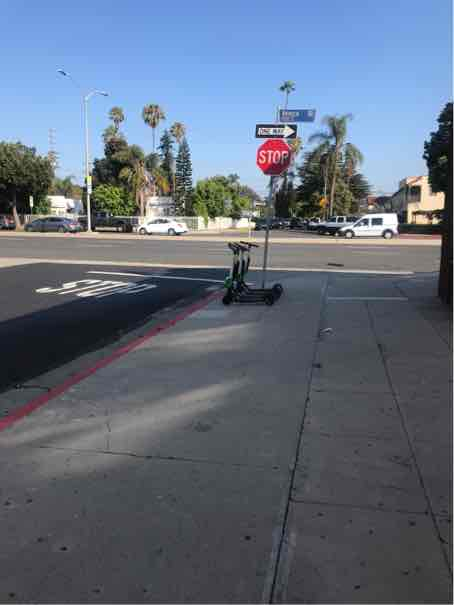scooter: (221, 231, 281, 308)
